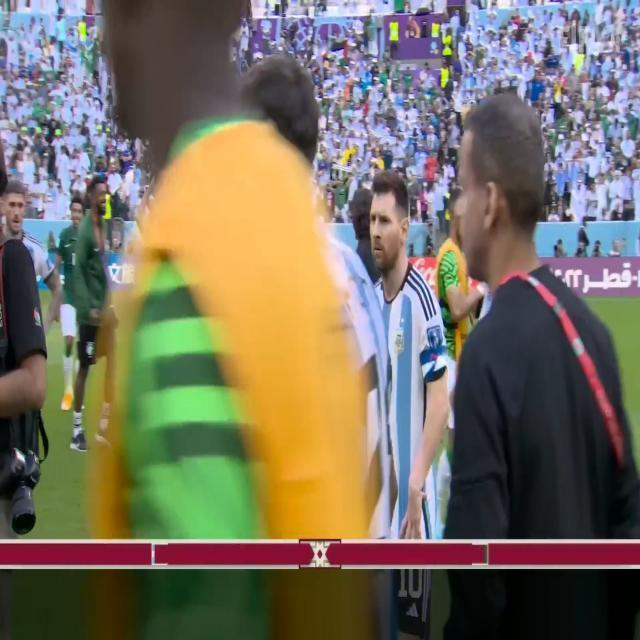player: (364, 165, 450, 543)
